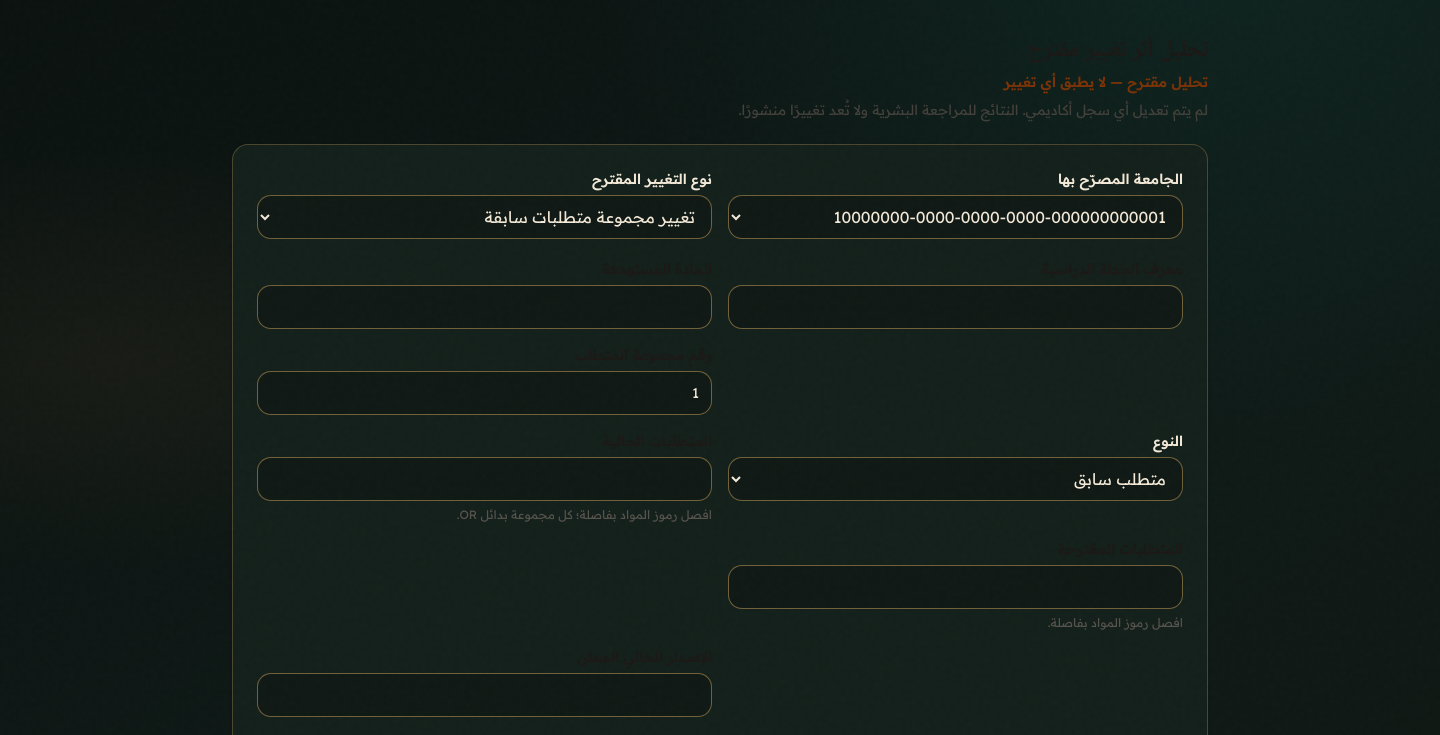
Test: shows text-only UNCHANGED status
Expected: the dropdown labelled "الجامعة المصرّح بها" is shown, x1=728 y1=195 x2=1183 y2=239
Step 1. Select "تغيير إصدار لائحة" in the dropdown labelled "نوع التغيير المقترح" → (484, 217), box x1=257 y1=195 x2=712 y2=239
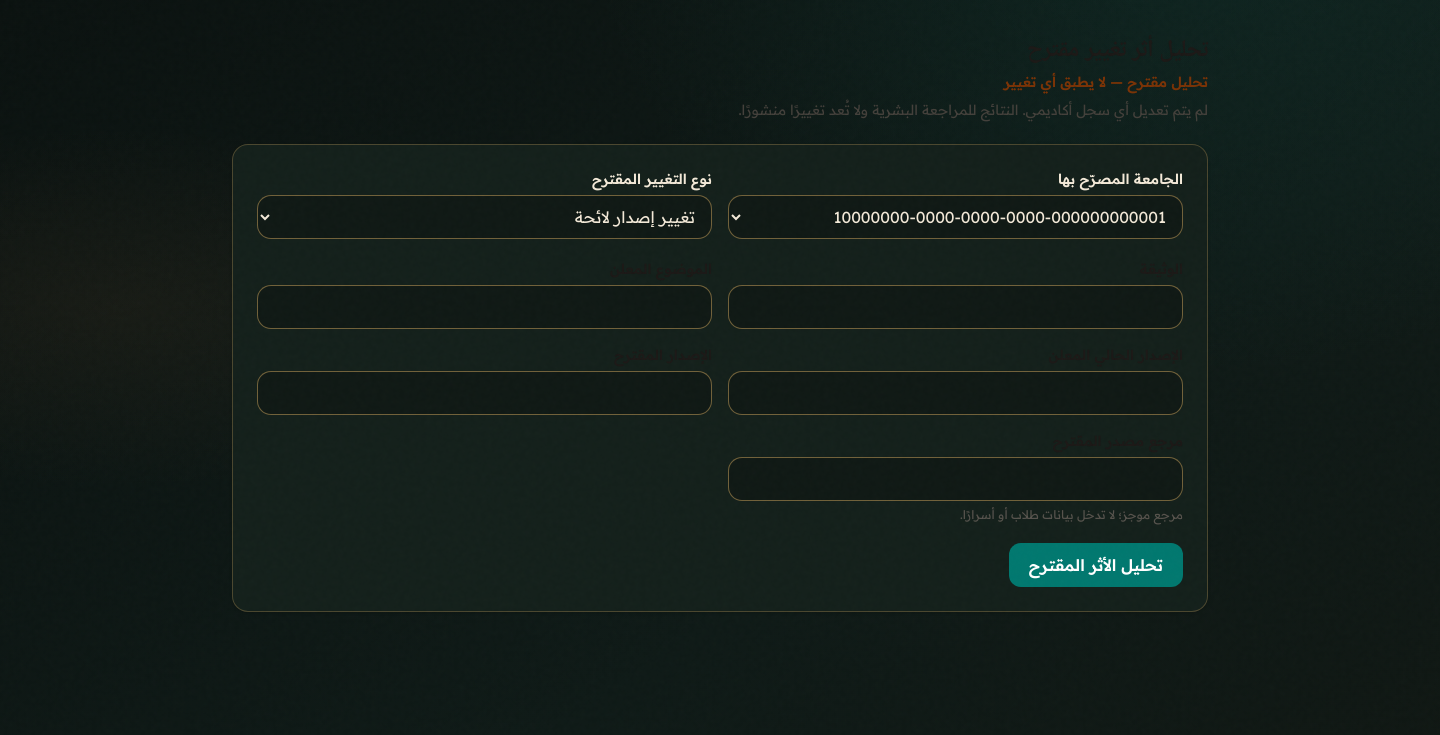
Step 2. Type "POLICY-A" into the field labelled "الوثيقة" → (956, 307), box x1=728 y1=285 x2=1183 y2=329
Step 3. Type "admission" into the field labelled "الموضوع المعلن" → (484, 307), box x1=257 y1=285 x2=712 y2=329
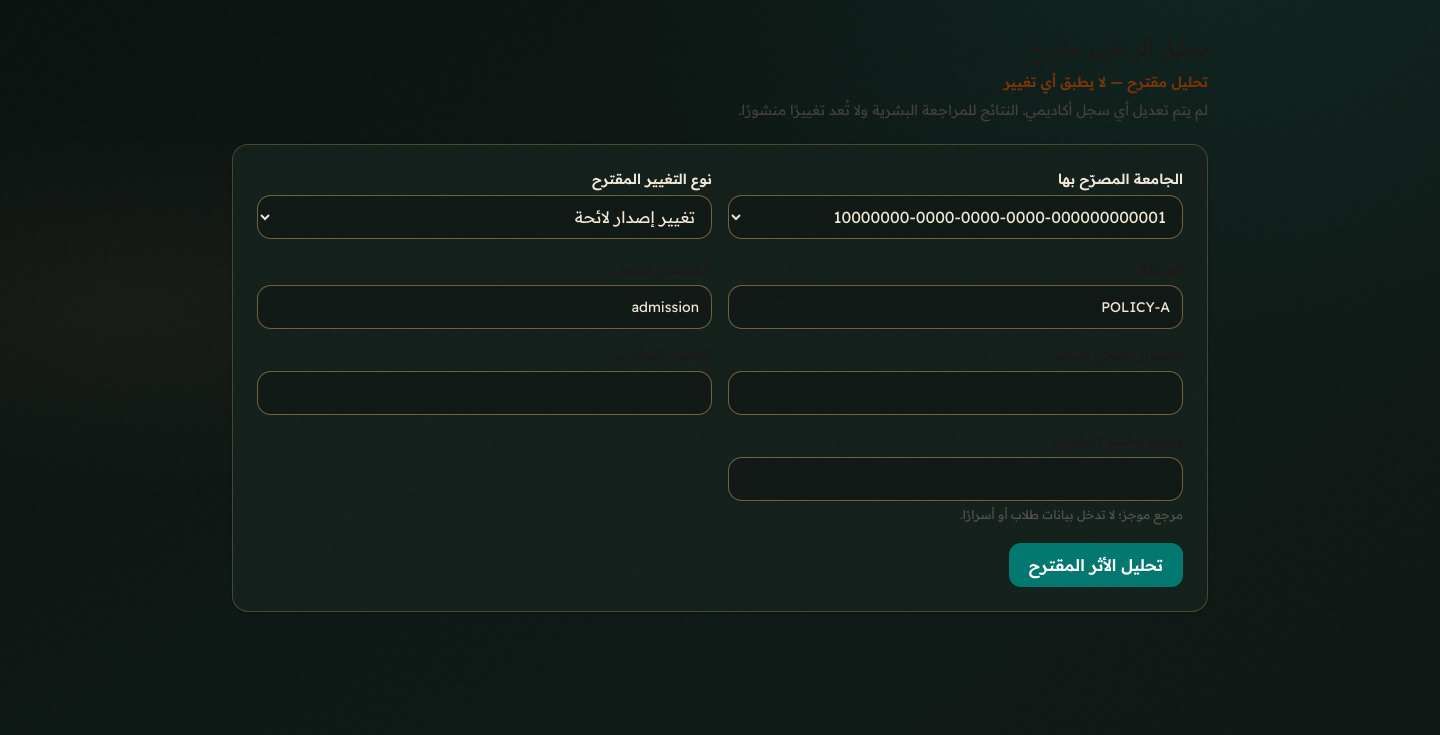
Step 4. Type "v1" into the field labelled "الإصدار الحالي المعلن" → (956, 393), box x1=728 y1=371 x2=1183 y2=415
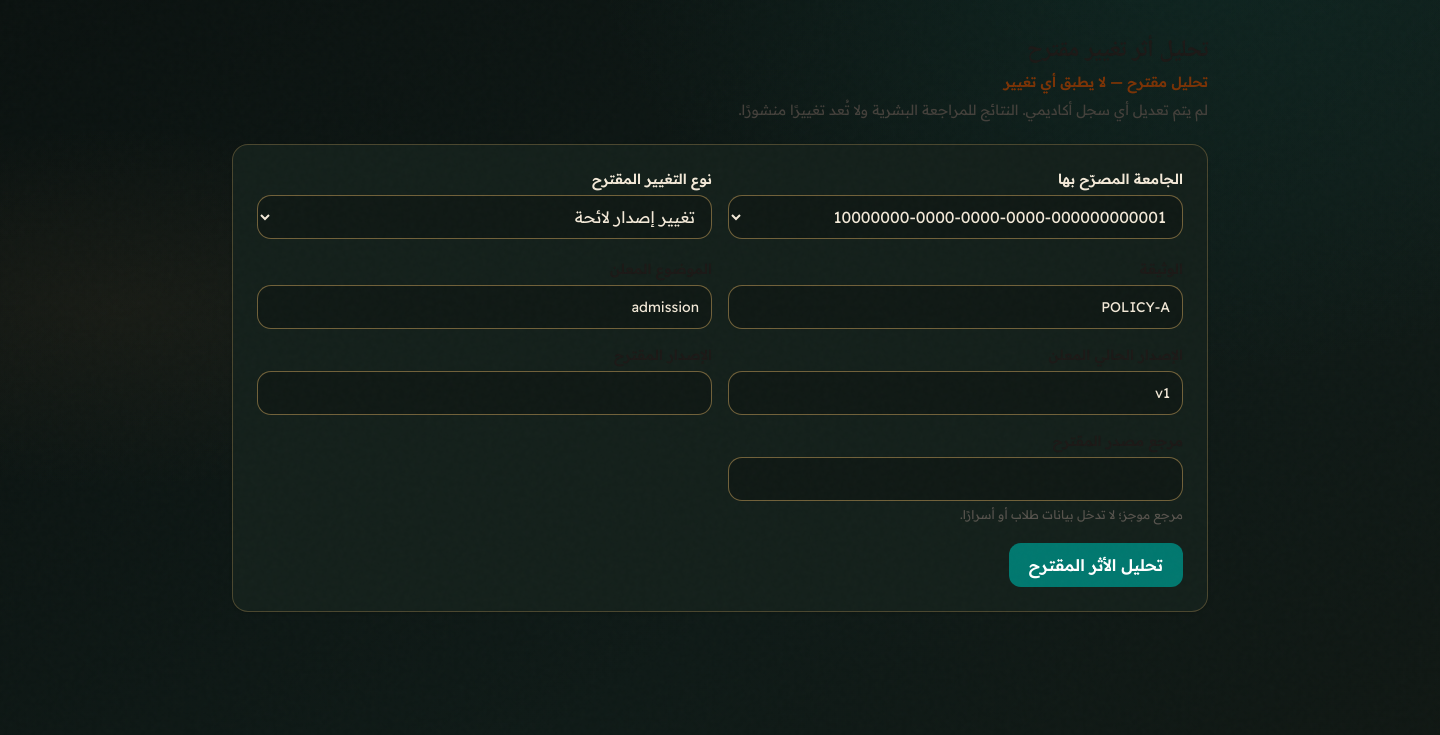
Step 5. Type "v2" into the field labelled "الإصدار المقترح" → (484, 393), box x1=257 y1=371 x2=712 y2=415
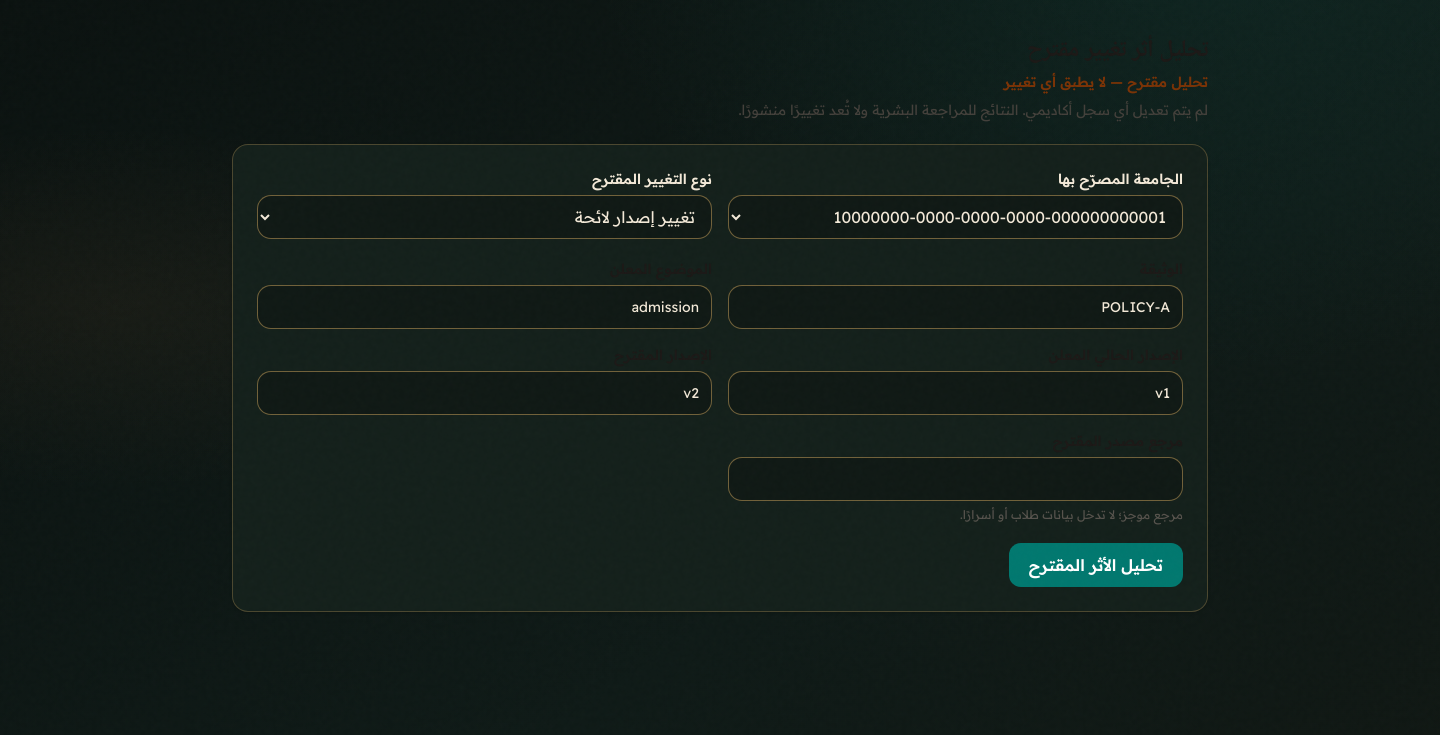
Step 6. Type "proposal" into the field labelled "مرجع مصدر المقترح" → (956, 479), box x1=728 y1=457 x2=1183 y2=501
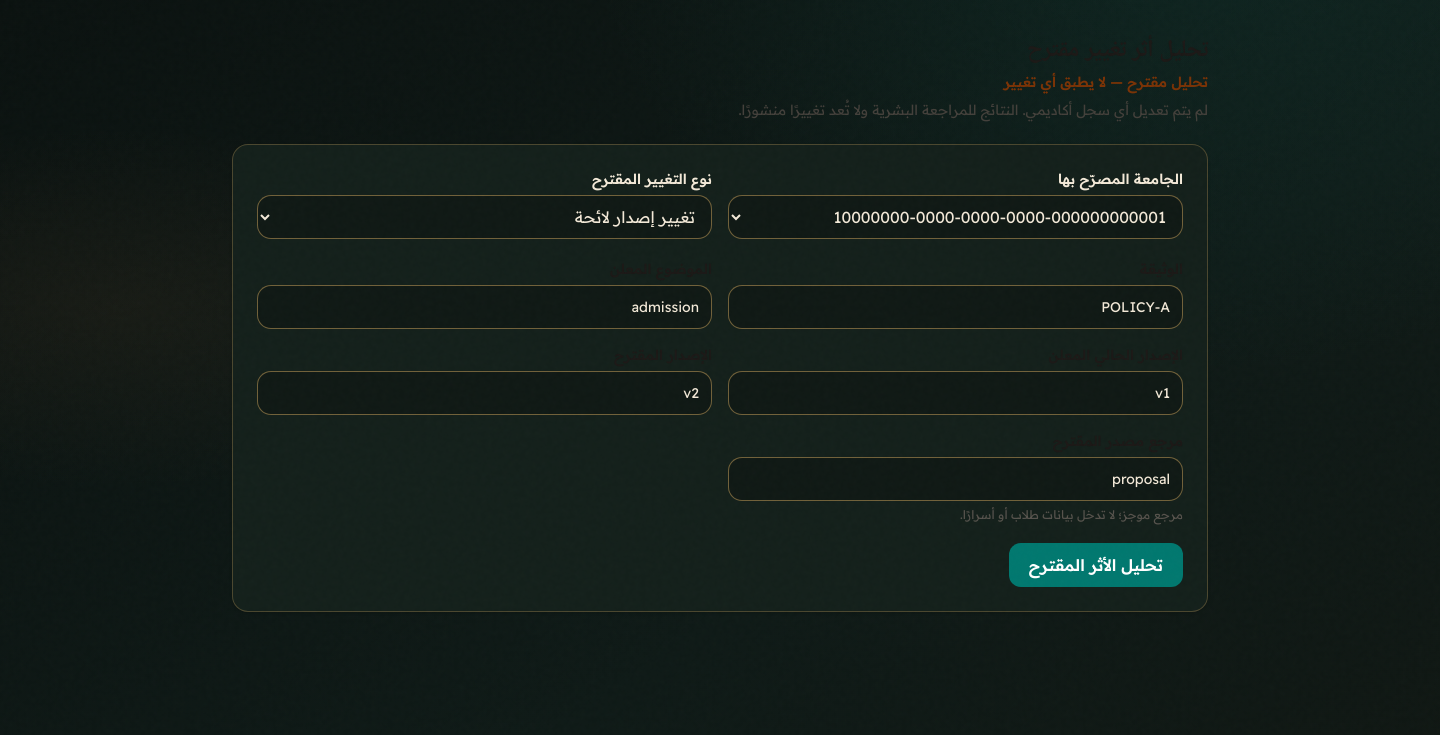
Step 7. Click the button "تحليل الأثر المقترح" → click(1096, 565), box x1=1009 y1=543 x2=1183 y2=587
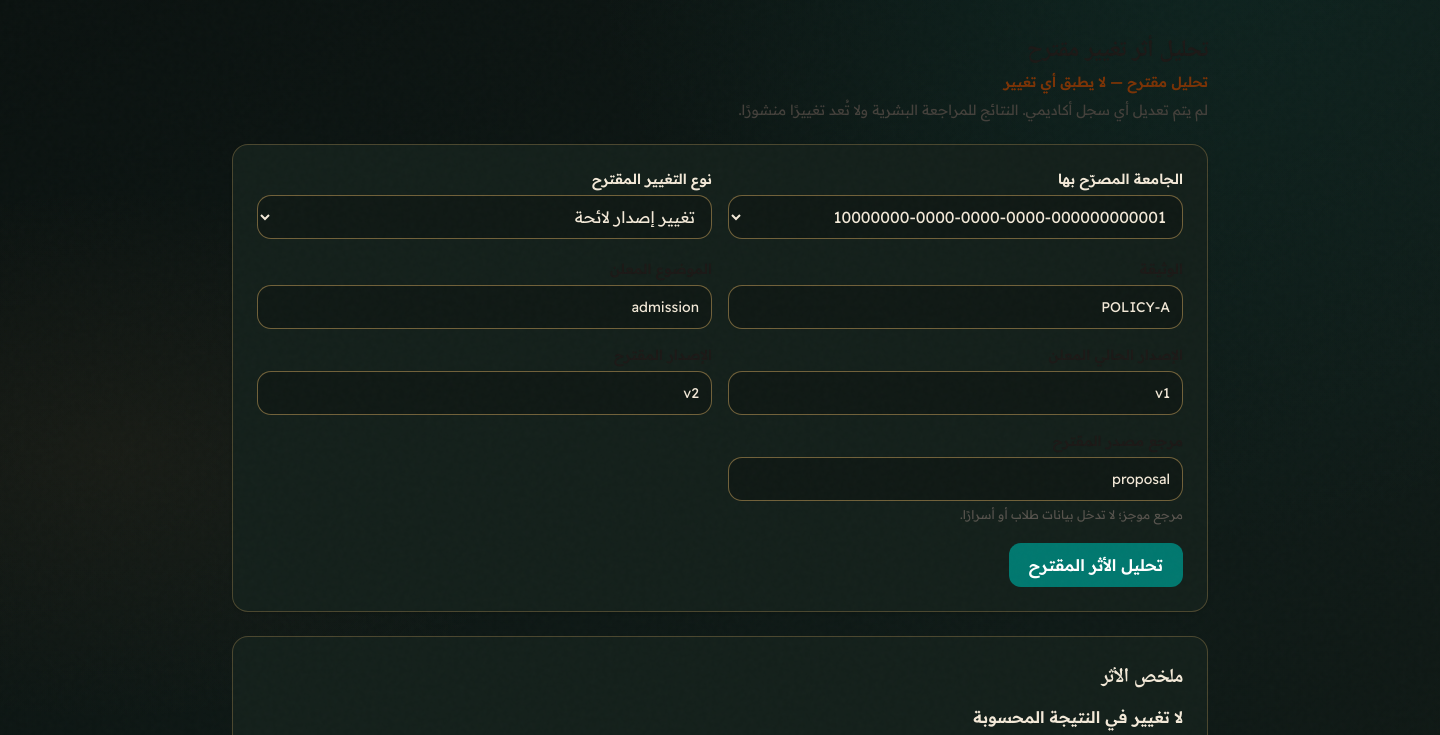
Expected: the heading "ملخص الأثر" is shown, x1=1101 y1=664 x2=1183 y2=686
Expected: the text "لا تغيير في النتيجة المحسوبة" is shown, x1=973 y1=707 x2=1183 y2=727
